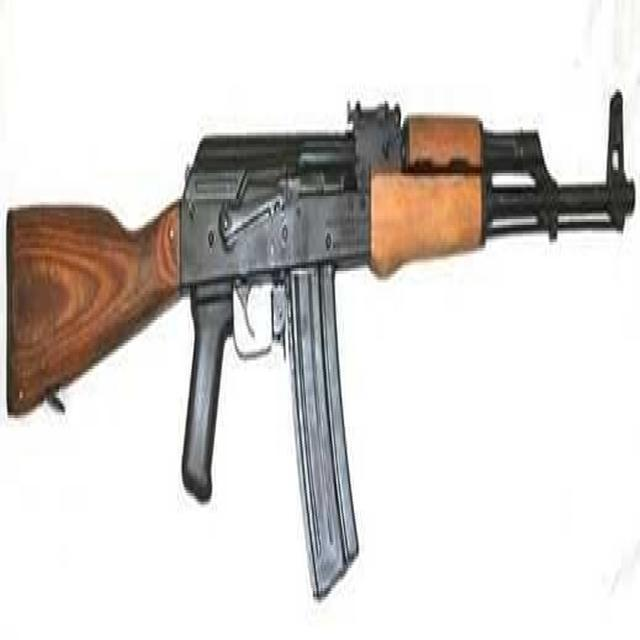ak: (0, 78, 640, 604)
